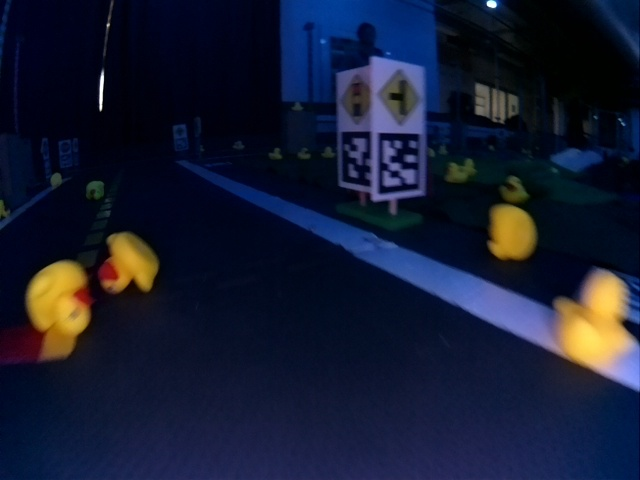Duckie: (553, 270, 634, 368), (26, 261, 90, 335), (98, 233, 158, 294), (488, 204, 532, 260), (500, 176, 529, 202), (445, 163, 467, 182), (86, 181, 105, 200), (463, 159, 477, 173), (268, 148, 282, 160), (297, 148, 311, 159), (321, 147, 335, 158), (233, 141, 243, 150), (293, 103, 301, 111)
Intersection sign: (376, 68, 422, 129)
QR code: (379, 135, 422, 191), (340, 132, 371, 186), (175, 138, 188, 151)
Signal sign: (339, 73, 372, 123)
